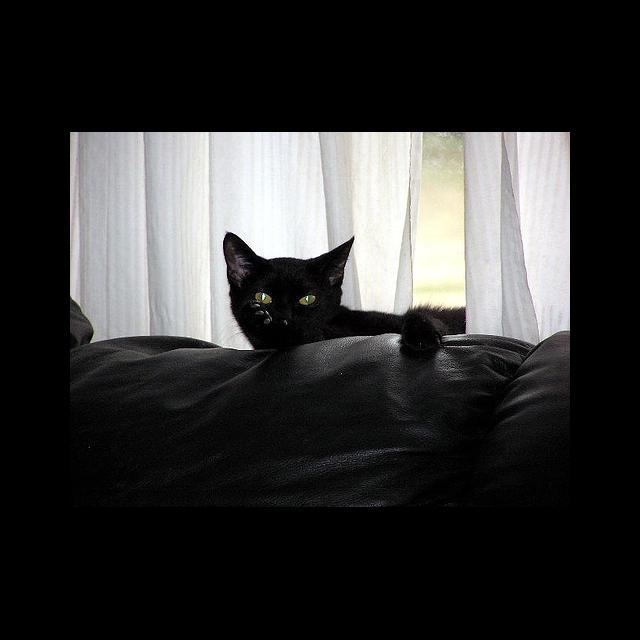animals: (228, 232, 353, 326)
